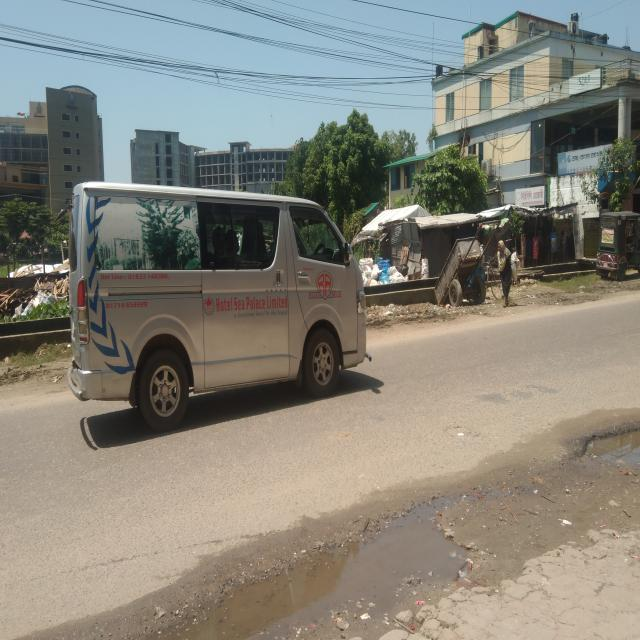microbus: (62, 163, 378, 440)
